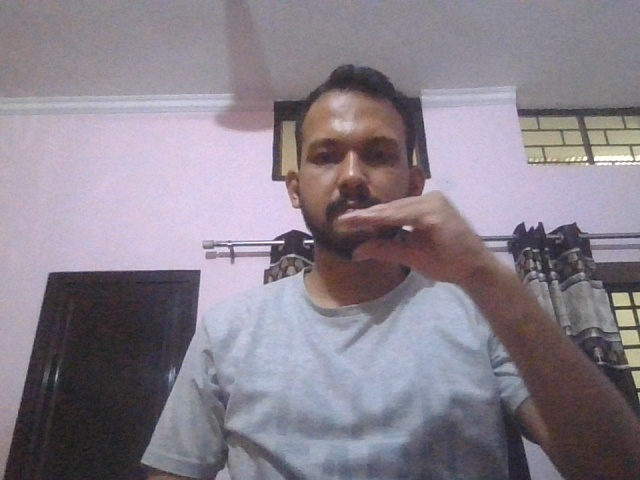no: (335, 190, 500, 285)
